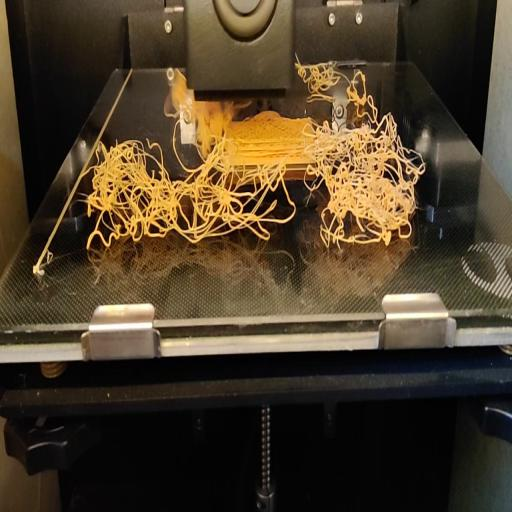spaghetti: (80, 118, 426, 253), (296, 53, 392, 117)
